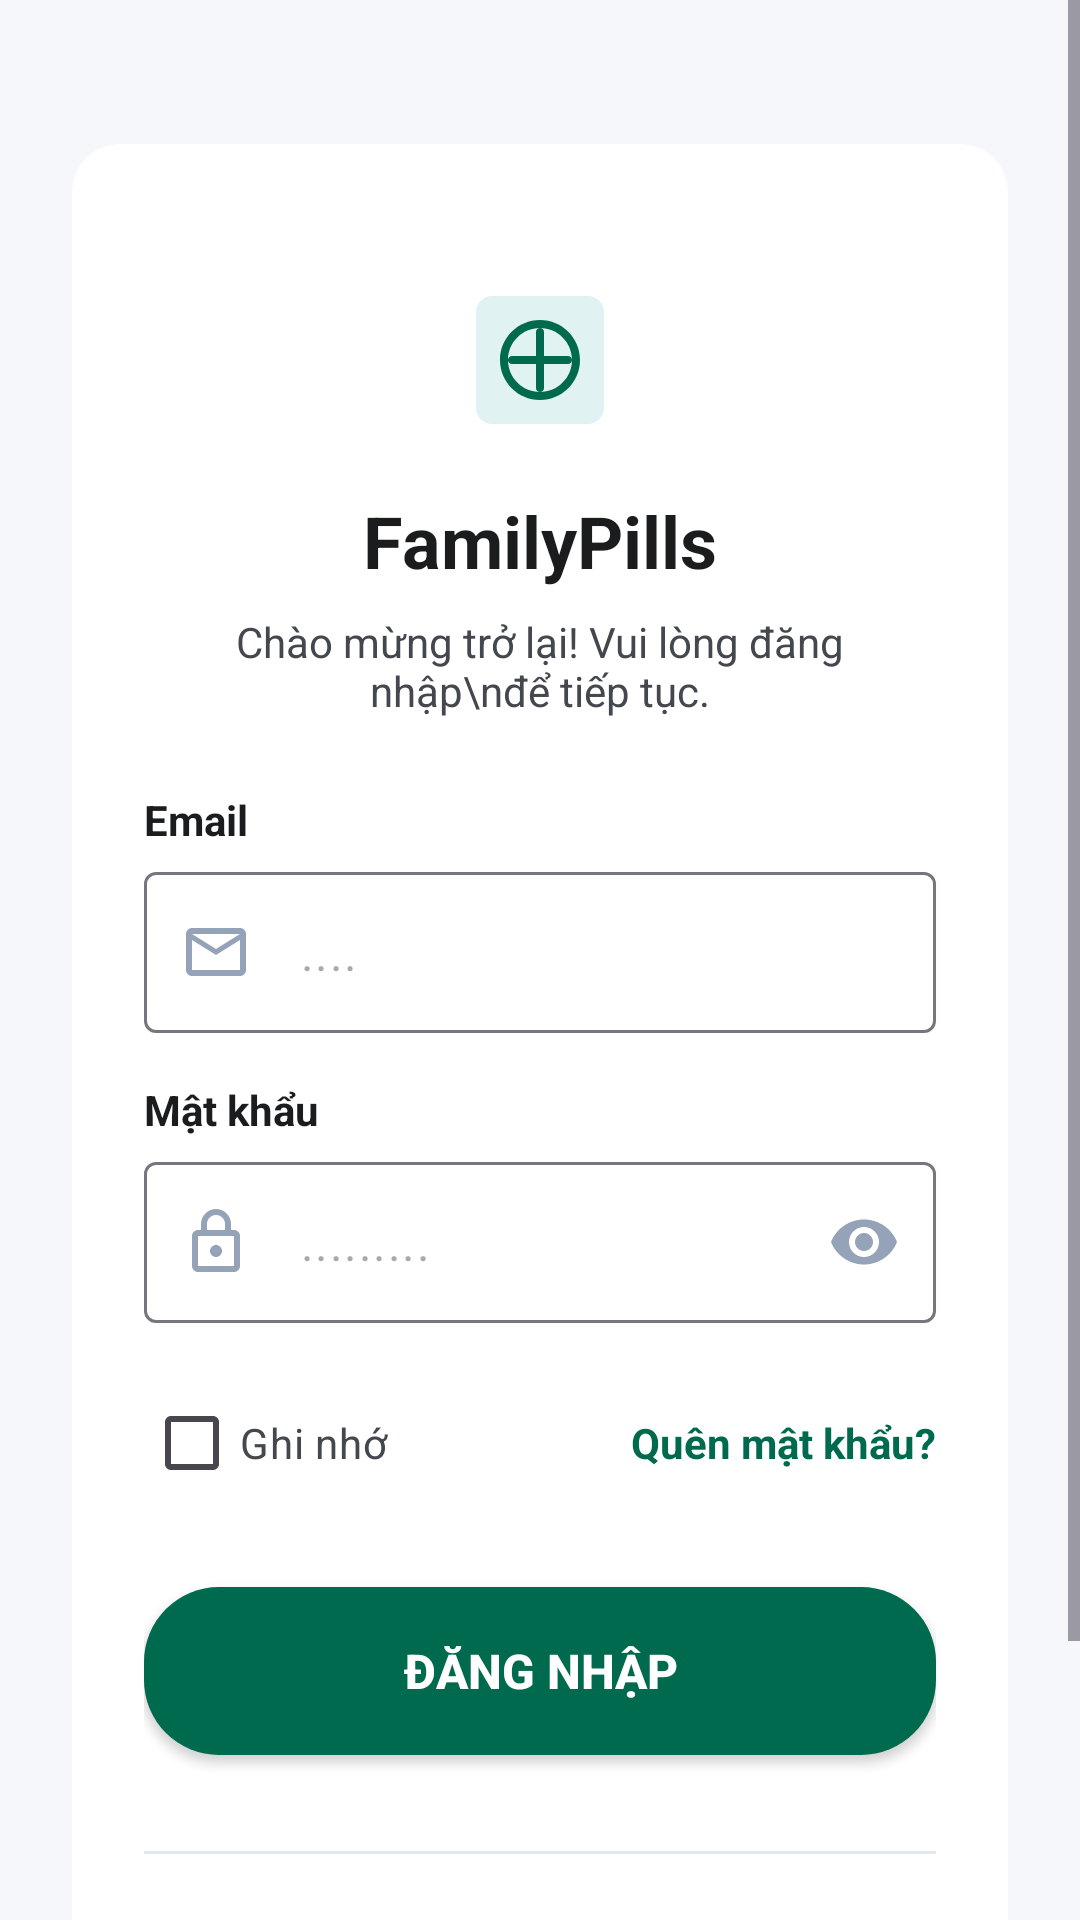

Locate icon controls on the screen. Image size 1080 × 1920, boxes as bbox(x1, y1, x2, y2).
medical: bbox(476, 296, 604, 424)
